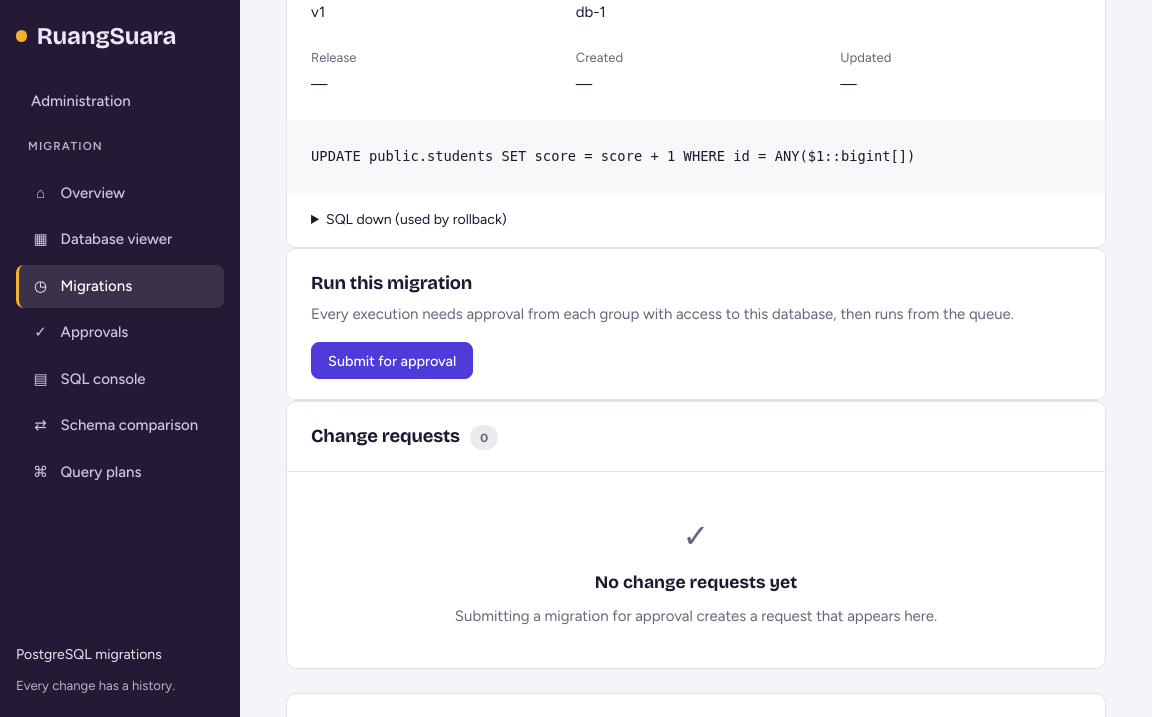
Test case: Asynchronous migration submission › submits a draft migration using apply and opens its job
(page scrolled)
Click the button "Submit for approval" at (392,361), box left=311, top=342, right=473, bottom=379
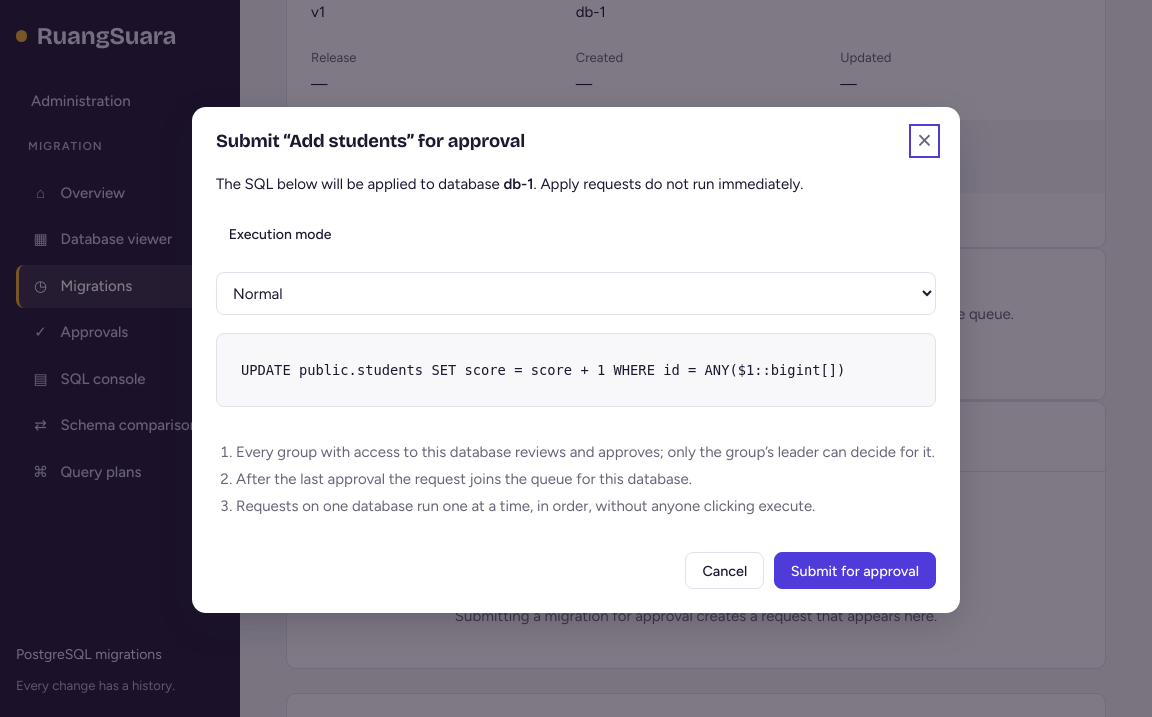
Click the button "Submit for approval" at (855,571), box left=774, top=552, right=936, bottom=589
(page scrolled)
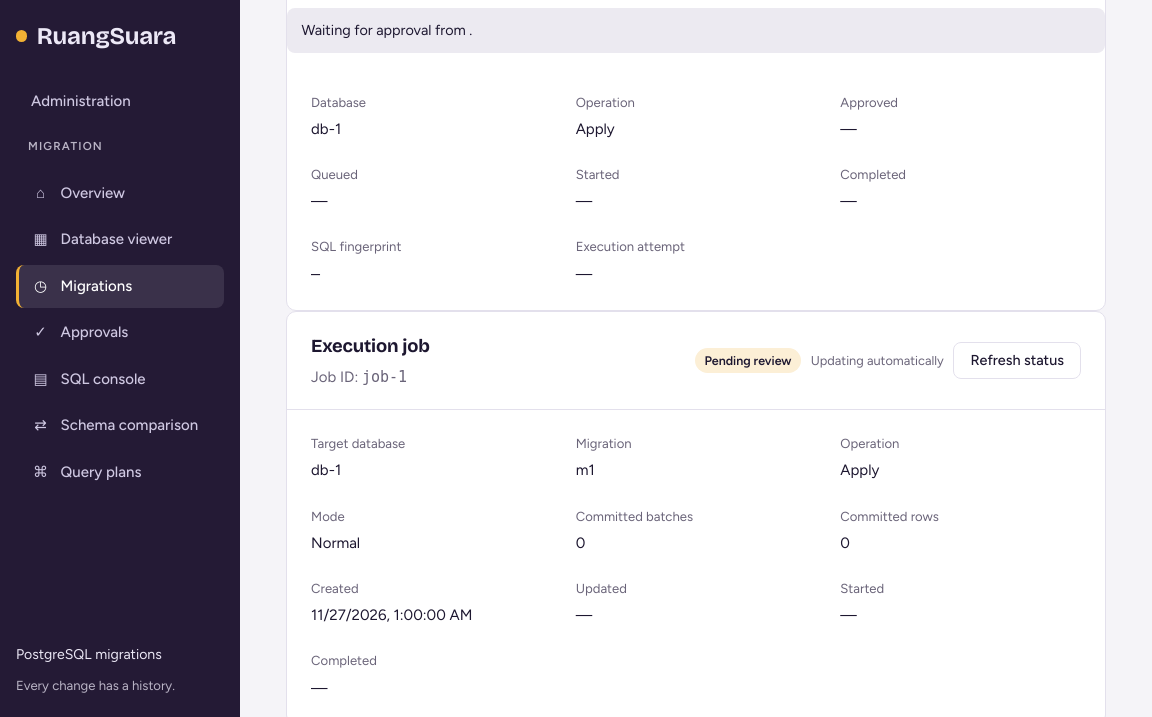
Check: the heading "Execution job" is shown, box left=311, top=332, right=430, bottom=360
Check: the text "job-1" is shown, box left=362, top=368, right=407, bottom=386
Check: the text "Pending review" is shown, box left=695, top=348, right=801, bottom=372
